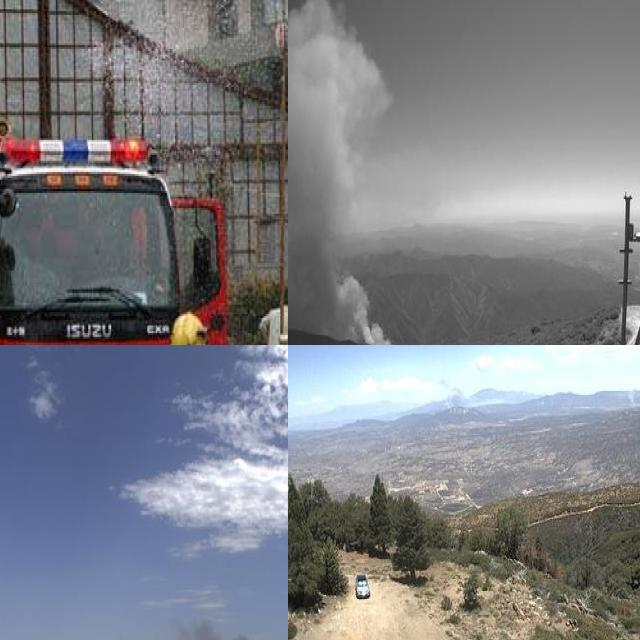smoke: (288, 0, 408, 345), (170, 611, 288, 640), (433, 372, 473, 415)
